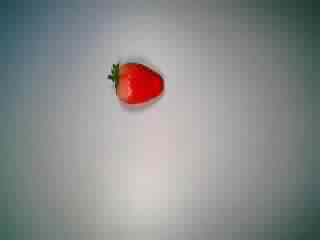strawberry: (100, 54, 173, 118)
